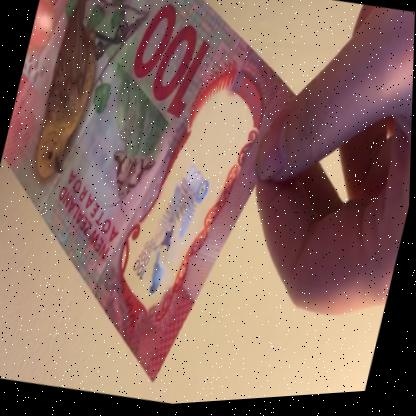100B: (124, 140, 221, 315)
